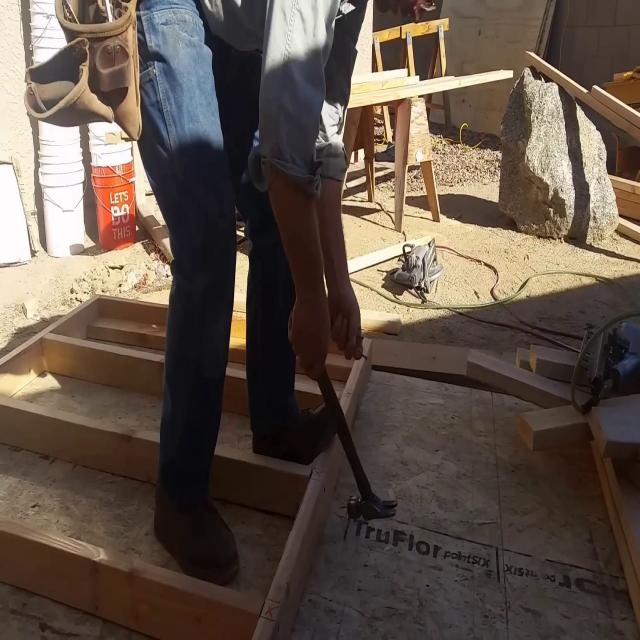hammer: (288, 310, 398, 522)
